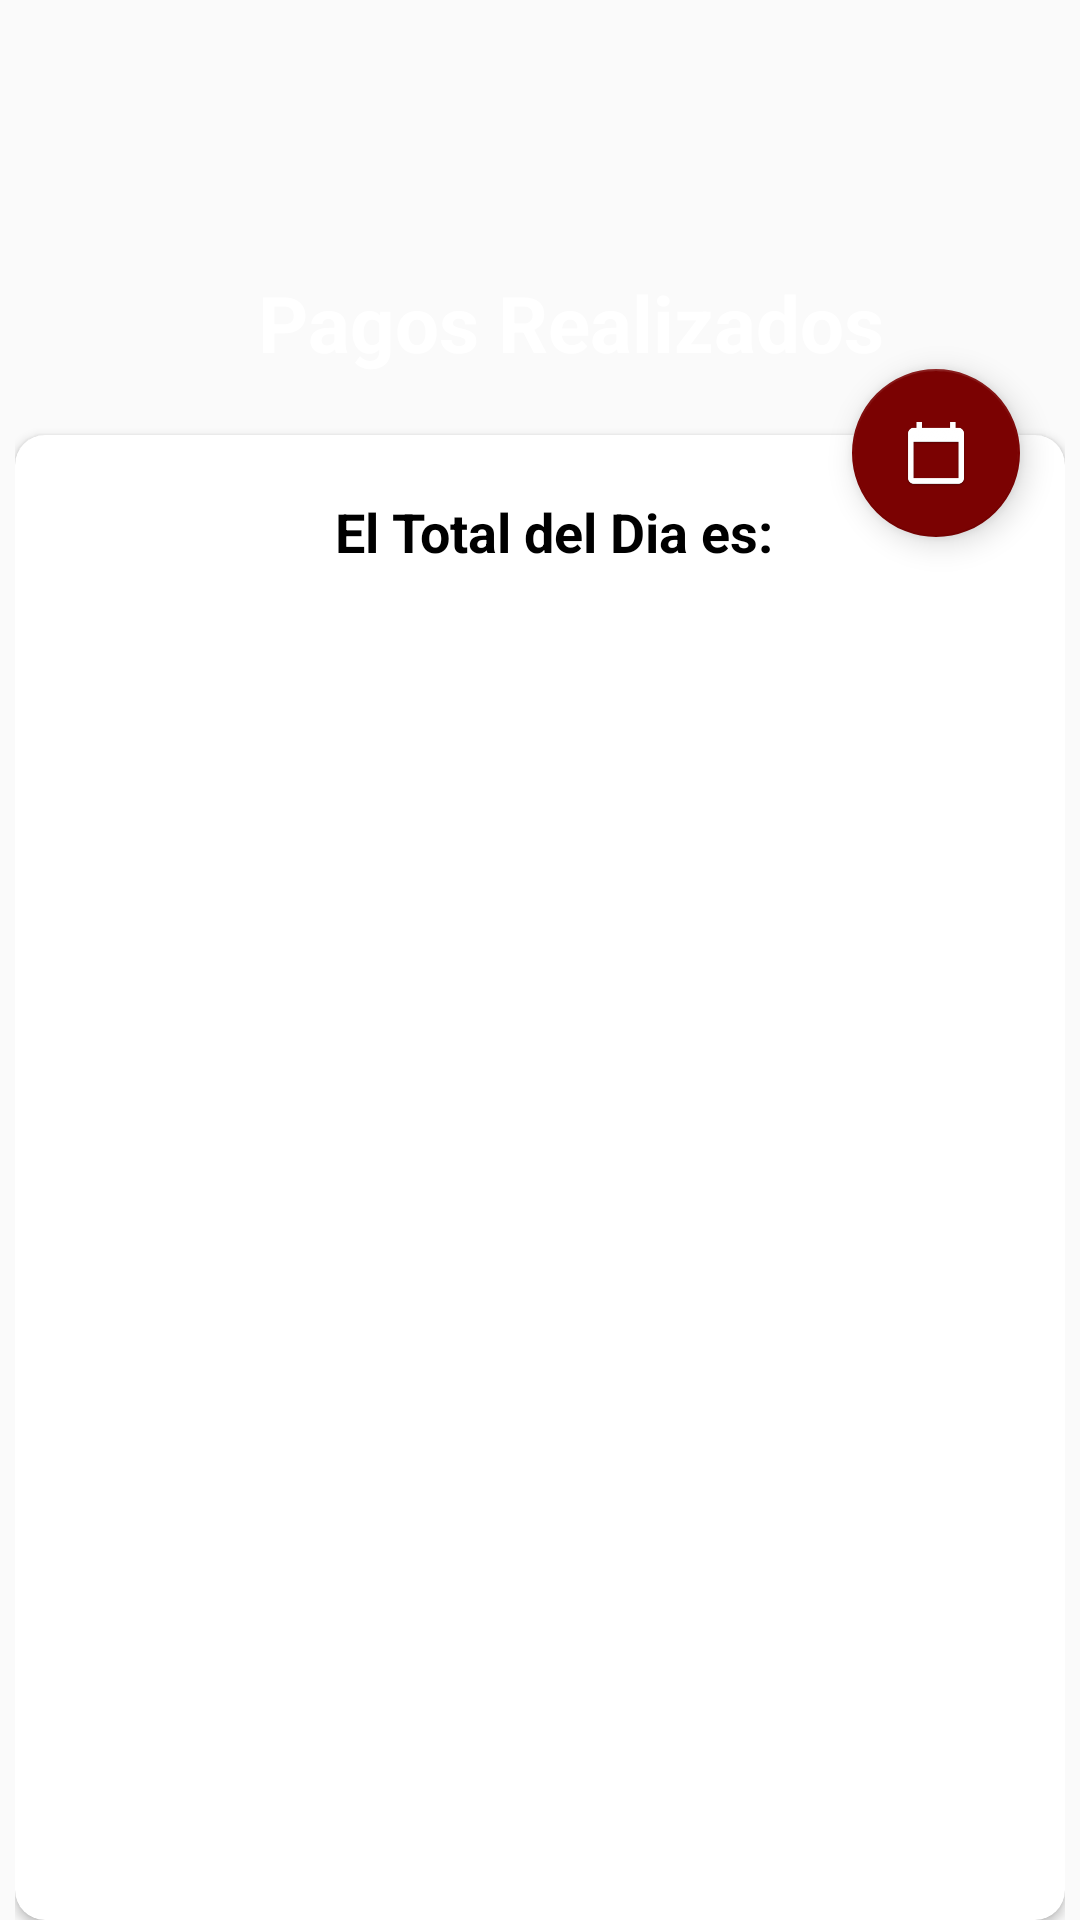

Icons on this 1080 x 1920 Android screen, each with the point to tap as point (x, y):
calen: point (936, 453)
